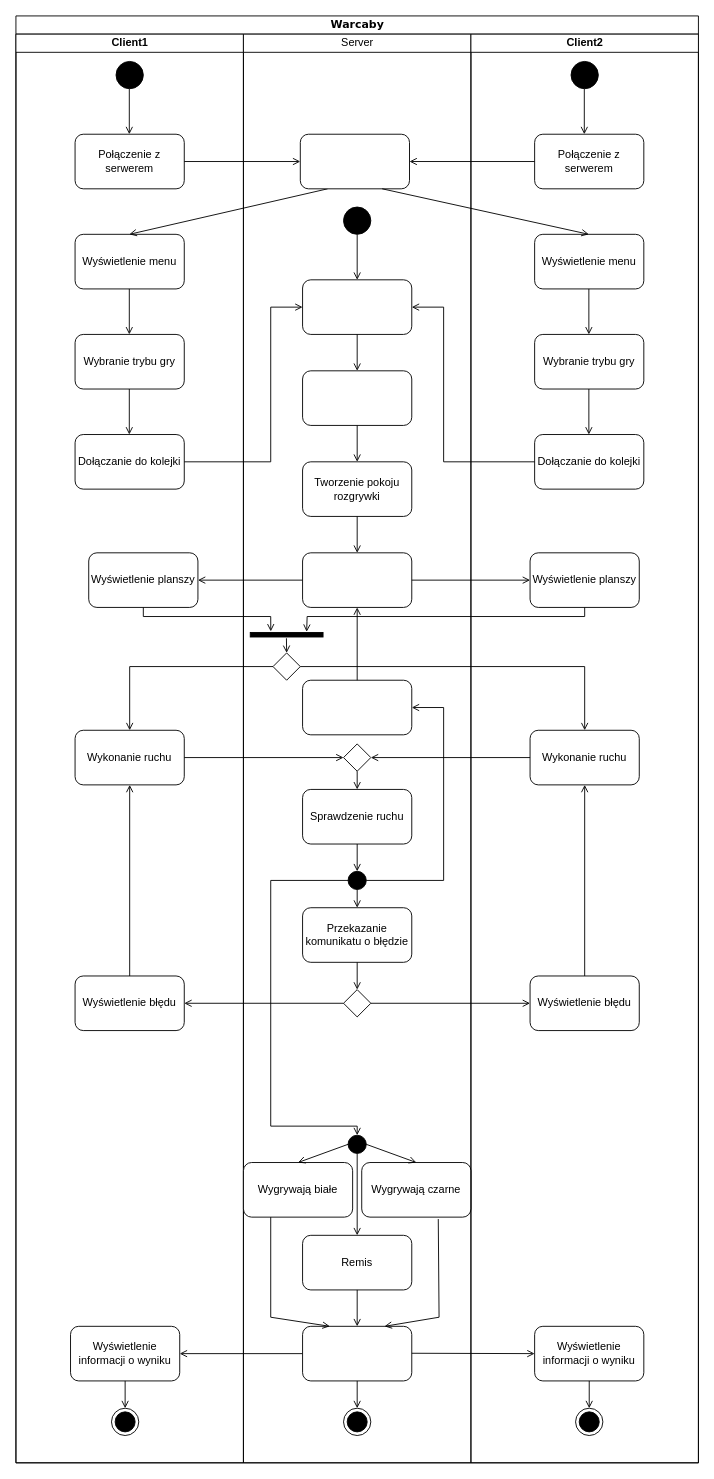
This 714x1479 diagram has some shape labels left out. Each missing label, with the centre of its shape:
"Dopieranie graczy w pary" belongs at (357,397).
"Oczekiwanie na graczy" belongs at (357,306).
"Przekazanie planszy do wyświetlenia" belongs at (357,579).
"Wysłanie informacji o wyniku" belongs at (357,1353).
"Wysłanie trybów gry" belongs at (354,161).
"Zmiana stanu planszy" belongs at (357,707).
